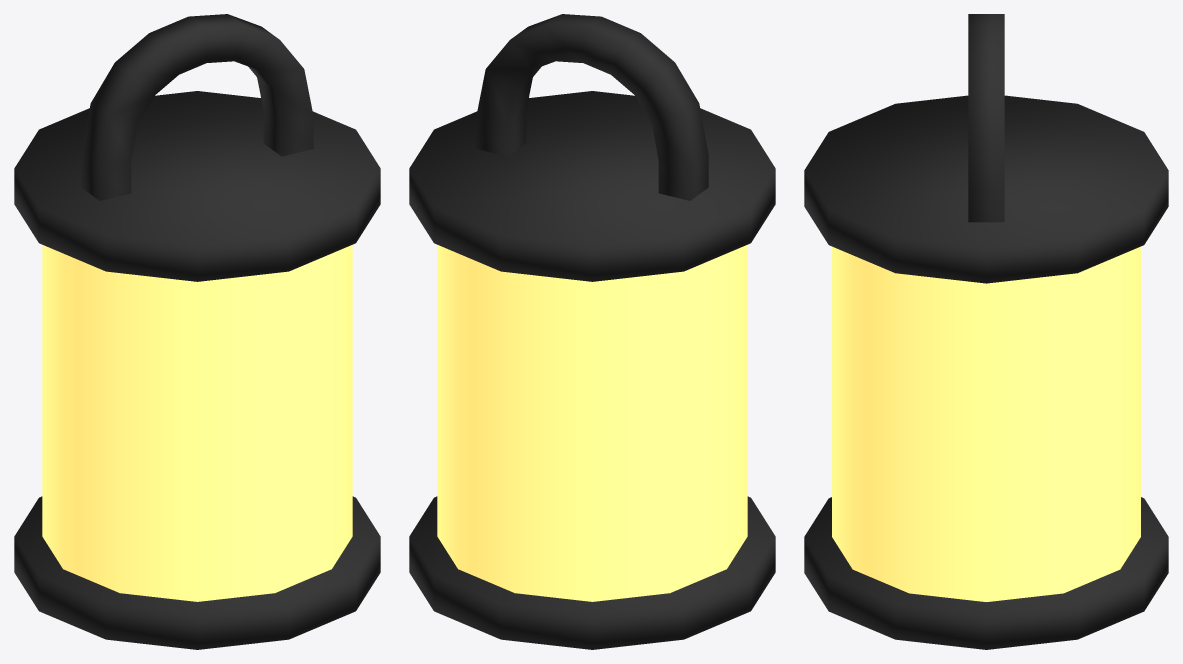
Rendered from bluepoint.glb.
3 renders of one model, left to right at view 1: azimuth 30°, elevation 25°; view 2: azimuth 150°, elevation 25°; view 3: azimuth 270°, elevation 25°, orthographic.
Visible parts, largest first — view 1: Cylinder; view 2: Cylinder; view 3: Cylinder.
Boxes of the visible parts, bbox=[...] form: Cylinder: bbox=[14, 14, 380, 649]; Cylinder: bbox=[409, 14, 775, 649]; Cylinder: bbox=[804, 14, 1168, 649].
Size of the model in its own units: 0.05 by 0.0828 by 0.05.
1 material, 1 textured.
